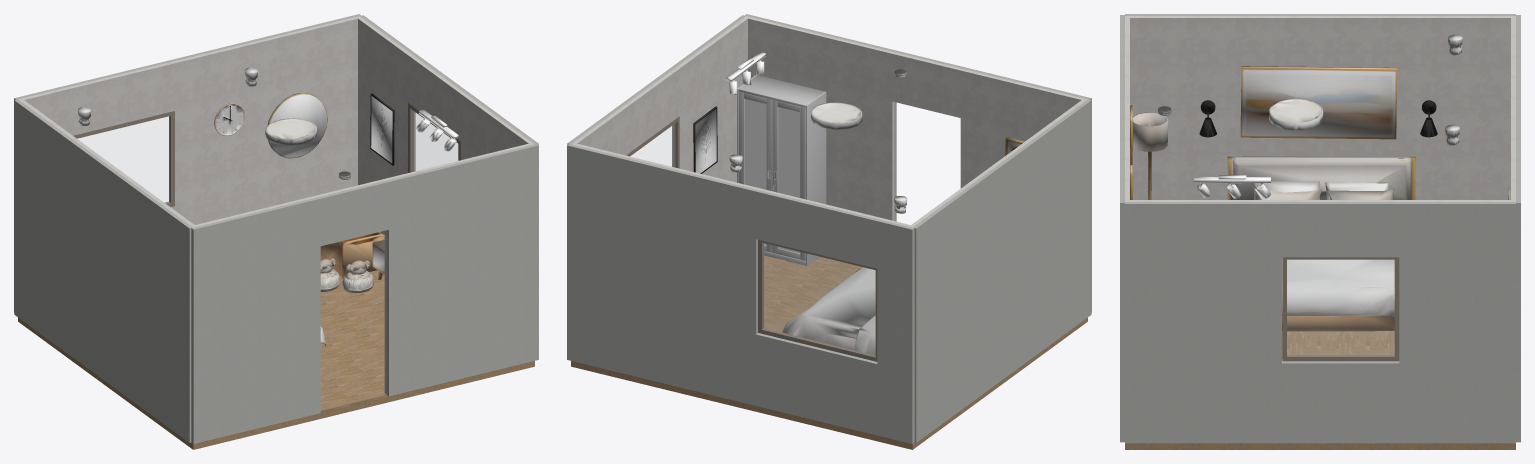
The model's file is scene_named.glb.
The picture shows the model from 3 angles, left to right: view 1: azimuth 30°, elevation 25°; view 2: azimuth 150°, elevation 25°; view 3: azimuth 270°, elevation 25°; orthographic projection. The views are drawn at different scales.
Visible parts, largest first — view 1: south_wall_exterior_bedroom/south_wall_exterior_bedroom/geom, west_wall_exterior_bedroom/west_wall_exterior_bedroom/geomet, north_wall_bedroom/north_wall_bedroom/geometry_0, east_wall_bedroom/east_wall_bedroom/geometry_0, floor_bedroom, window_3_bedroom/window_3_bedroom/glass, mirror_0, window_2_bedroom/window_2_bedroom/glass, toy_box_0, art_print_0, south_wall_bedroom/south_wall_bedroom/geometry_0, flush_mount_0 (+9 smaller); view 2: north_wall_exterior_bedroom/north_wall_exterior_bedroom/geom, west_wall_exterior_bedroom/west_wall_exterior_bedroom/geomet, south_wall_bedroom/south_wall_bedroom/geometry_0, east_wall_bedroom/east_wall_bedroom/geometry_0, window_3_bedroom/window_3_bedroom/glass, floor_bedroom, bed_0, wardrobe_0/E_door_1_16, wardrobe_0/E_door_2_36.006, wardrobe_0/E_body_1.004, window_3_bedroom/window_3_bedroom/frame, south_wall_exterior_bedroom/south_wall_exterior_bedroom/geom (+13 smaller); view 3: east_wall_exterior_bedroom/east_wall_exterior_bedroom/geomet, west_wall_bedroom/west_wall_bedroom/geometry_0, bed_0, window_2_bedroom/window_2_bedroom/glass, landscape_print_0, floor_bedroom, window_2_bedroom/window_2_bedroom/frame, north_wall_exterior_bedroom/north_wall_exterior_bedroom/geom, south_wall_exterior_bedroom/south_wall_exterior_bedroom/geom, floor_lamp_0, flush_mount_0, track_lighting_0 (+6 smaller).
Part boxes in pixels (x1,y1,x2,y2): south_wall_exterior_bedroom/south_wall_exterior_bedroom/geom: [191, 144, 538, 443]; west_wall_exterior_bedroom/west_wall_exterior_bedroom/geomet: [14, 99, 192, 442]; north_wall_bedroom/north_wall_bedroom/geometry_0: [22, 17, 357, 224]; east_wall_bedroom/east_wall_bedroom/geometry_0: [356, 16, 534, 234]; floor_bedroom: [18, 270, 534, 449]; window_3_bedroom/window_3_bedroom/glass: [78, 117, 169, 202]; mirror_0: [267, 93, 327, 158]; window_2_bedroom/window_2_bedroom/glass: [412, 111, 457, 171]; toy_box_0: [320, 232, 384, 278]; art_print_0: [370, 93, 394, 165]; south_wall_bedroom/south_wall_bedroom/geometry_0: [195, 143, 530, 394]; flush_mount_0: [265, 118, 316, 145]; north_wall_exterior_bedroom/north_wall_exterior_bedroom/geom: [567, 144, 914, 443]; west_wall_exterior_bedroom/west_wall_exterior_bedroom/geomet: [913, 99, 1091, 442]; south_wall_bedroom/south_wall_bedroom/geometry_0: [748, 17, 1083, 220]; east_wall_bedroom/east_wall_bedroom/geometry_0: [571, 16, 749, 182]; window_3_bedroom/window_3_bedroom/glass: [763, 243, 875, 355]; floor_bedroom: [571, 255, 1087, 449]; bed_0: [782, 267, 875, 355]; wardrobe_0/E_door_1_16: [778, 107, 800, 253]; wardrobe_0/E_door_2_36.006: [744, 99, 766, 245]; wardrobe_0/E_body_1.004: [806, 91, 826, 265]; window_3_bedroom/window_3_bedroom/frame: [758, 240, 877, 361]; south_wall_exterior_bedroom/south_wall_exterior_bedroom/geom: [745, 14, 1091, 312]; east_wall_exterior_bedroom/east_wall_exterior_bedroom/geomet: [1125, 202, 1515, 443]; west_wall_bedroom/west_wall_bedroom/geometry_0: [1125, 16, 1515, 199]; bed_0: [1227, 156, 1415, 331]; window_2_bedroom/window_2_bedroom/glass: [1287, 260, 1394, 355]; landscape_print_0: [1240, 66, 1397, 139]; floor_bedroom: [1125, 331, 1515, 449]; window_2_bedroom/window_2_bedroom/frame: [1282, 257, 1399, 361]; north_wall_exterior_bedroom/north_wall_exterior_bedroom/geom: [1516, 15, 1520, 442]; south_wall_exterior_bedroom/south_wall_exterior_bedroom/geom: [1120, 15, 1124, 442]; floor_lamp_0: [1132, 112, 1168, 199]; flush_mount_0: [1269, 98, 1323, 130]; track_lighting_0: [1194, 175, 1270, 198].
Bounding box in the file's own units: 4.6 × 2.8 × 4.1.
44 materials, 34 textured.
